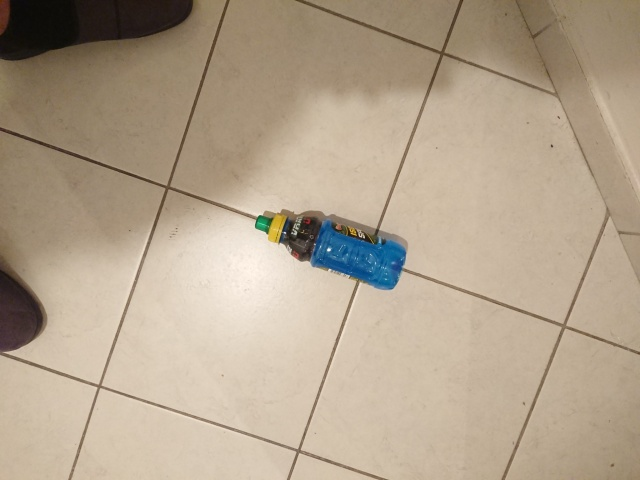Vindi Iso Sport Forest Strawberries 500mL: (253, 212, 408, 291)
